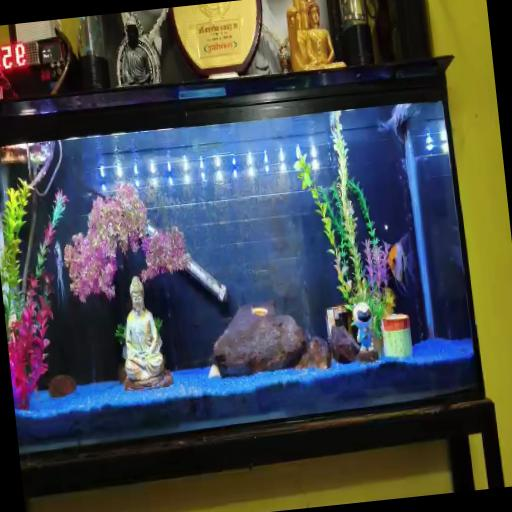Fish: (378, 103, 418, 143), (387, 235, 413, 293), (54, 242, 65, 309)
